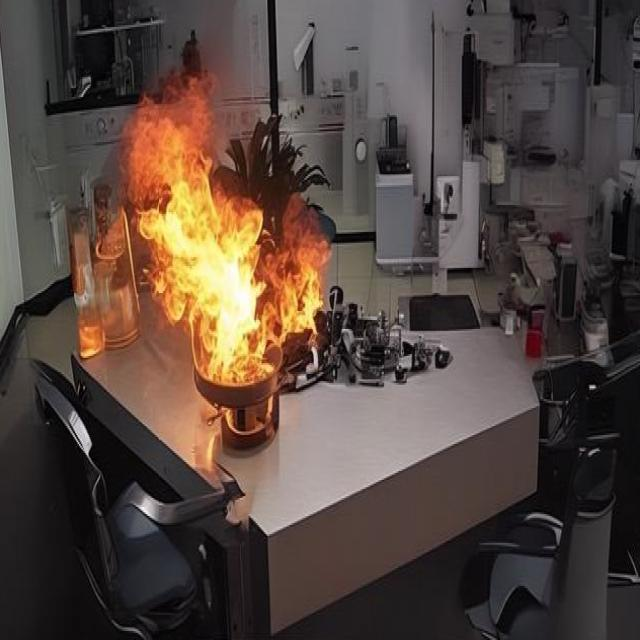smoke: (120, 84, 323, 392)
